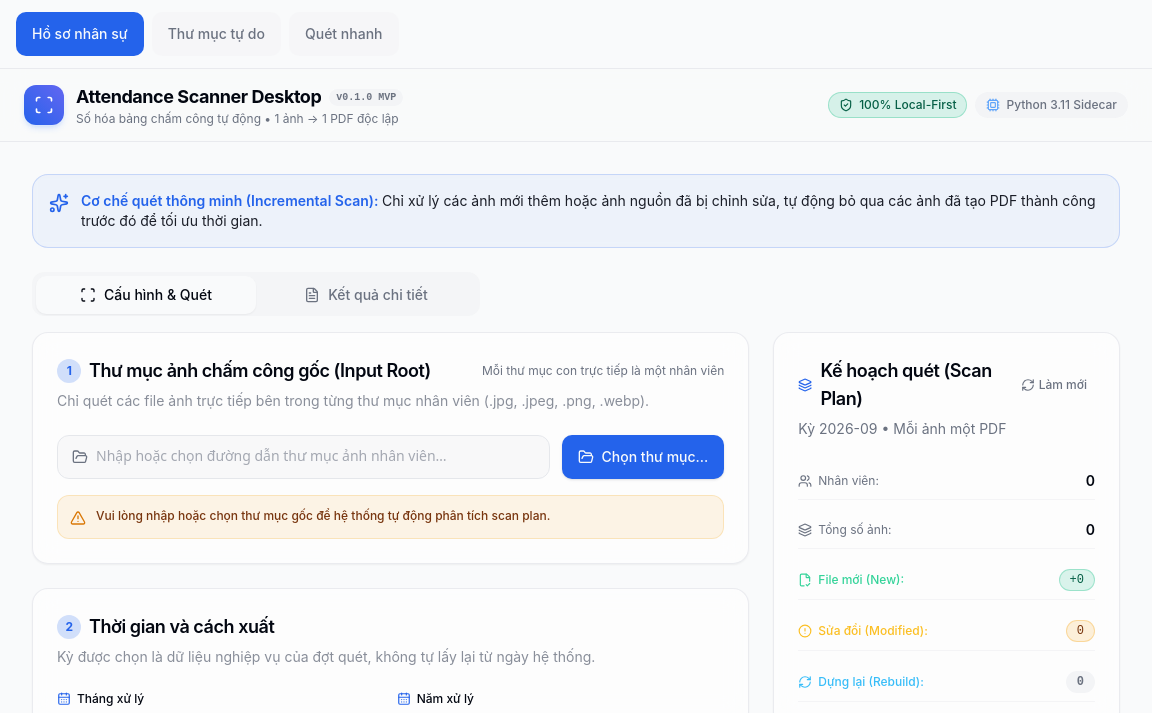
cross-workflow isolation › keeps Folder Scan settings when switching tabs
The width and height of the screenshot is (1152, 713).
Click the tab "Thư mục tự do": point(216, 34) [152,12,281,56]
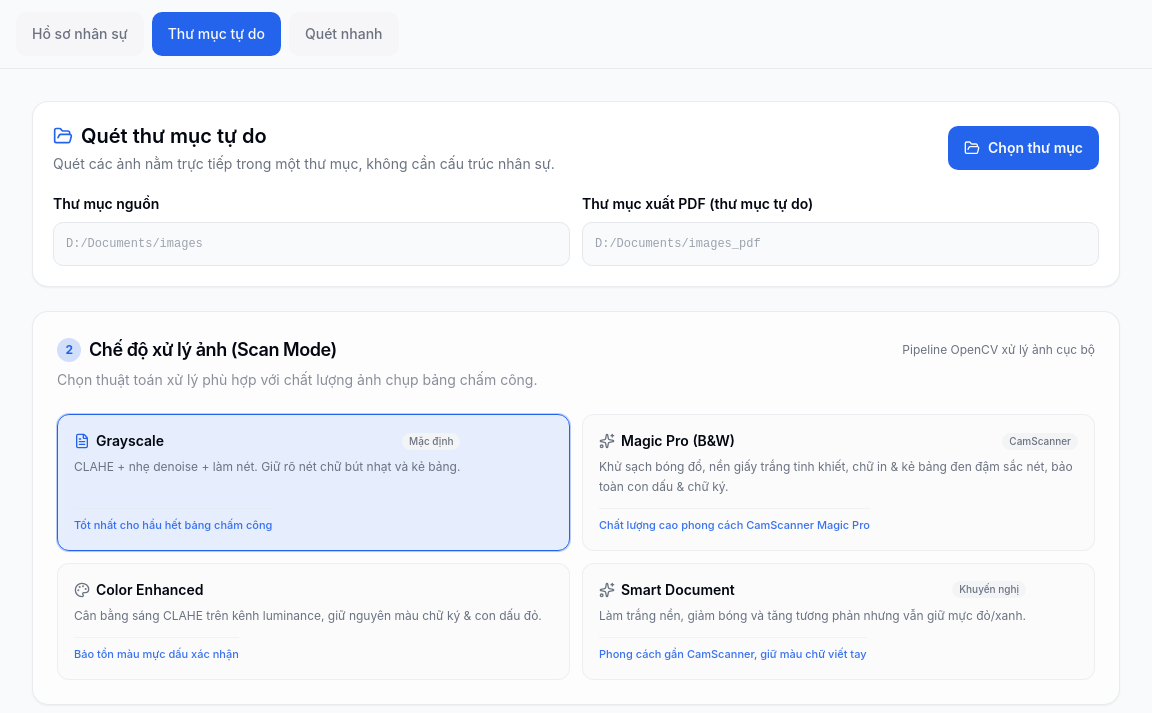
Click the button "Chọn thư mục": point(1024, 148) [948,126,1099,170]
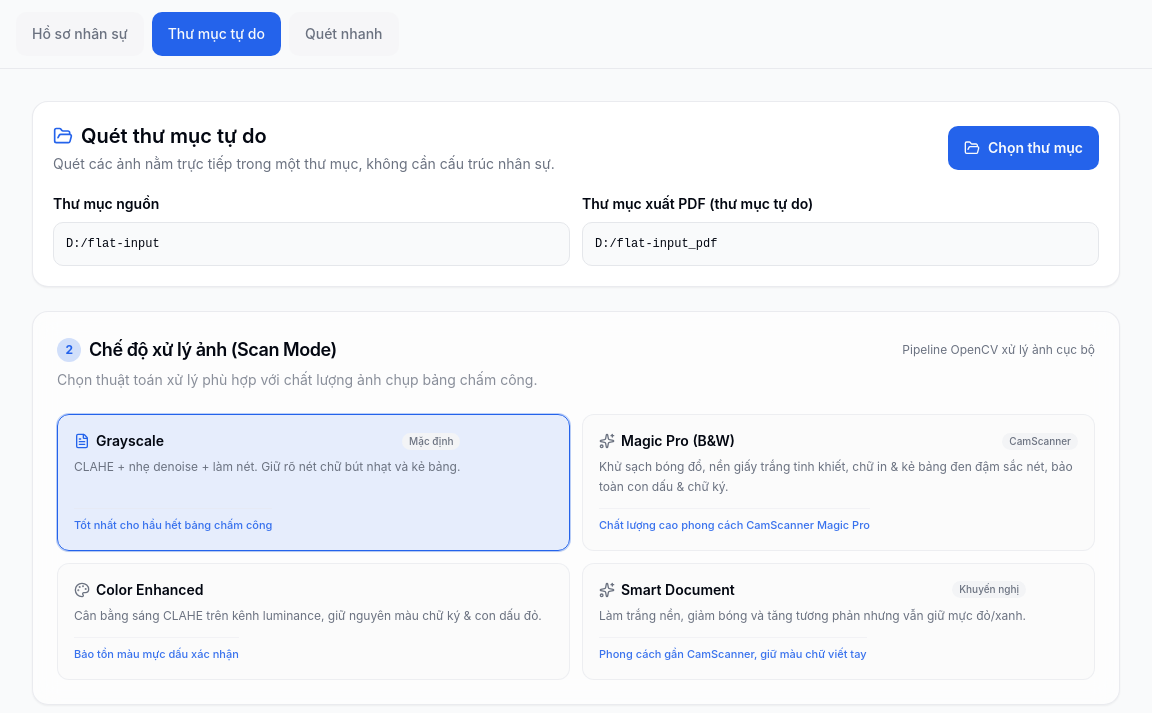
Now the field showing "D:/flat-input" is shown, box [53,222,570,266]
Click the tab "Quét nhanh": point(344, 34) [289,12,398,56]
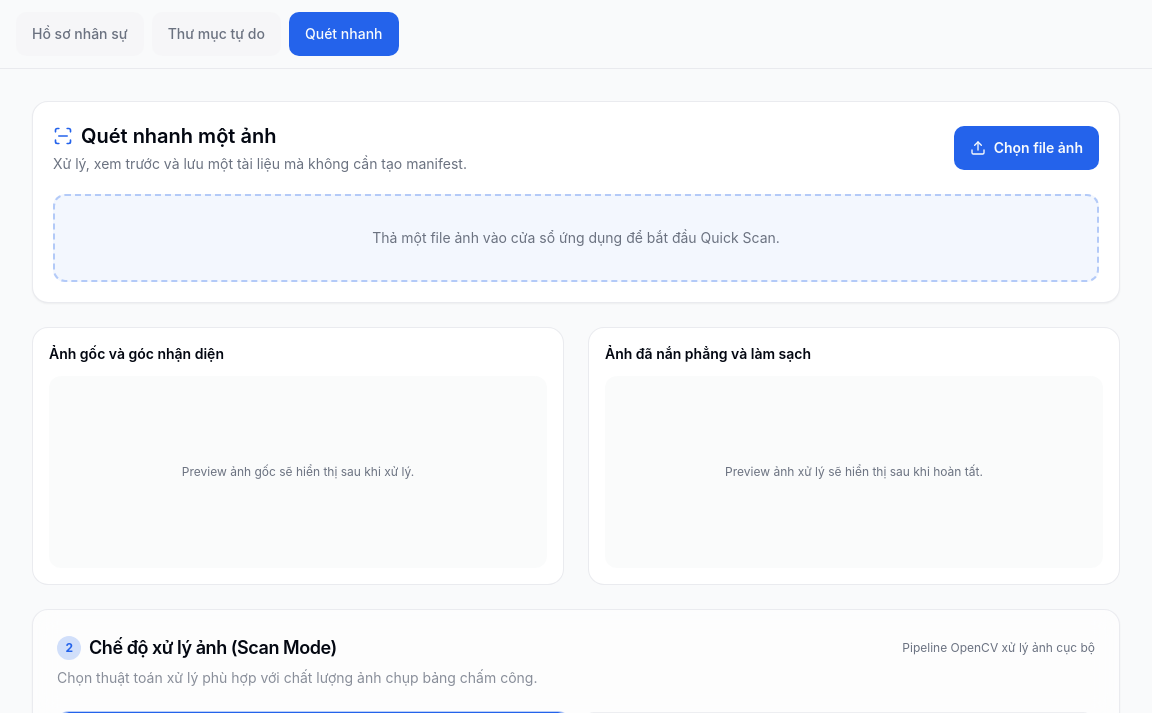
Click the tab "Thư mục tự do": point(216, 34) [152,12,281,56]
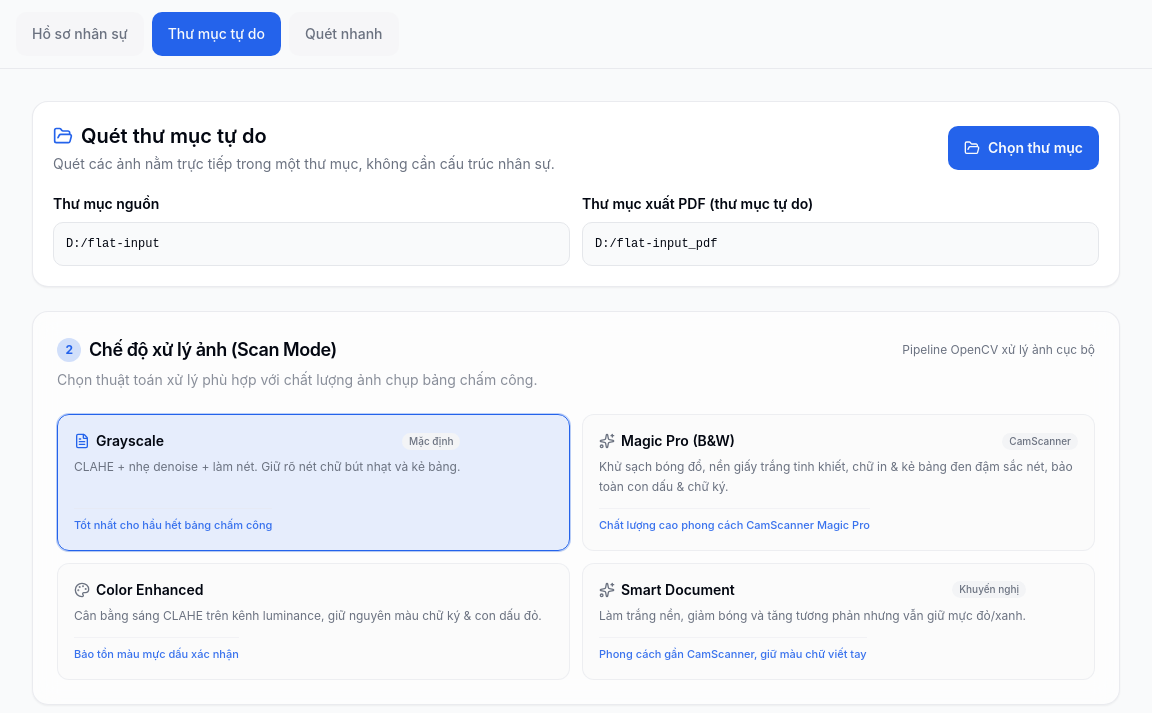
Now the field showing "D:/flat-input" is shown, box [53,222,570,266]
